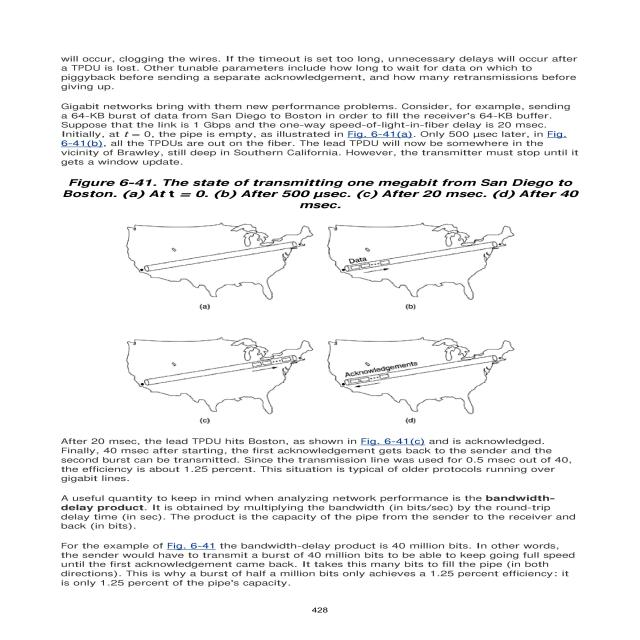diagram: (52, 166, 590, 436)
